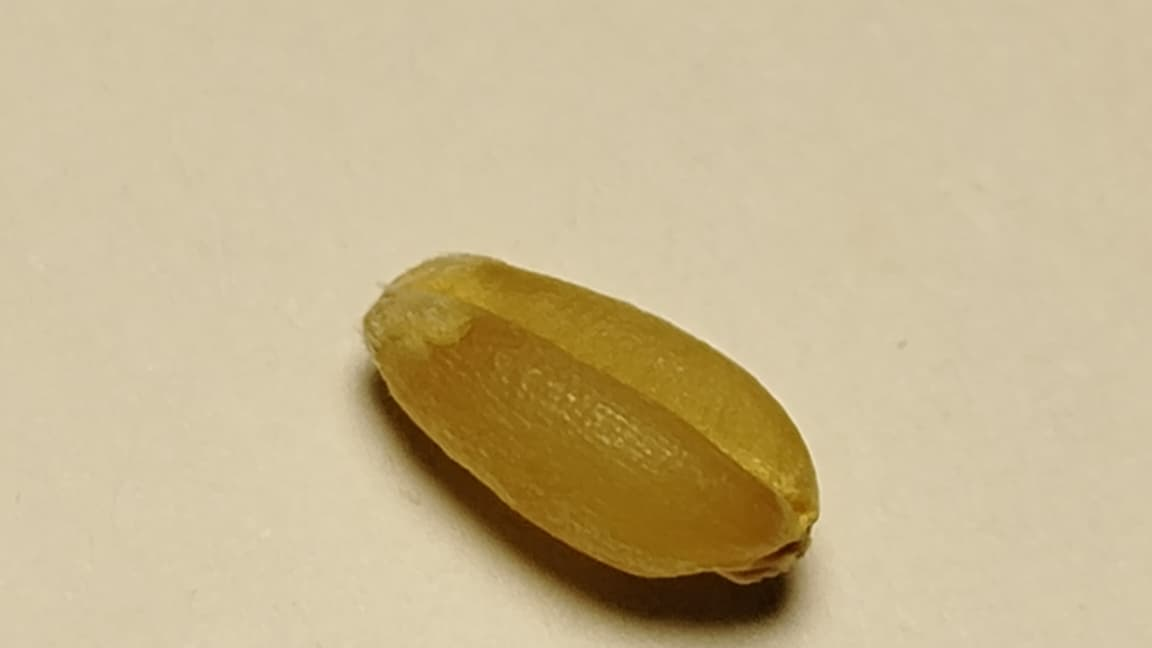healthy: (365, 254, 816, 579)
